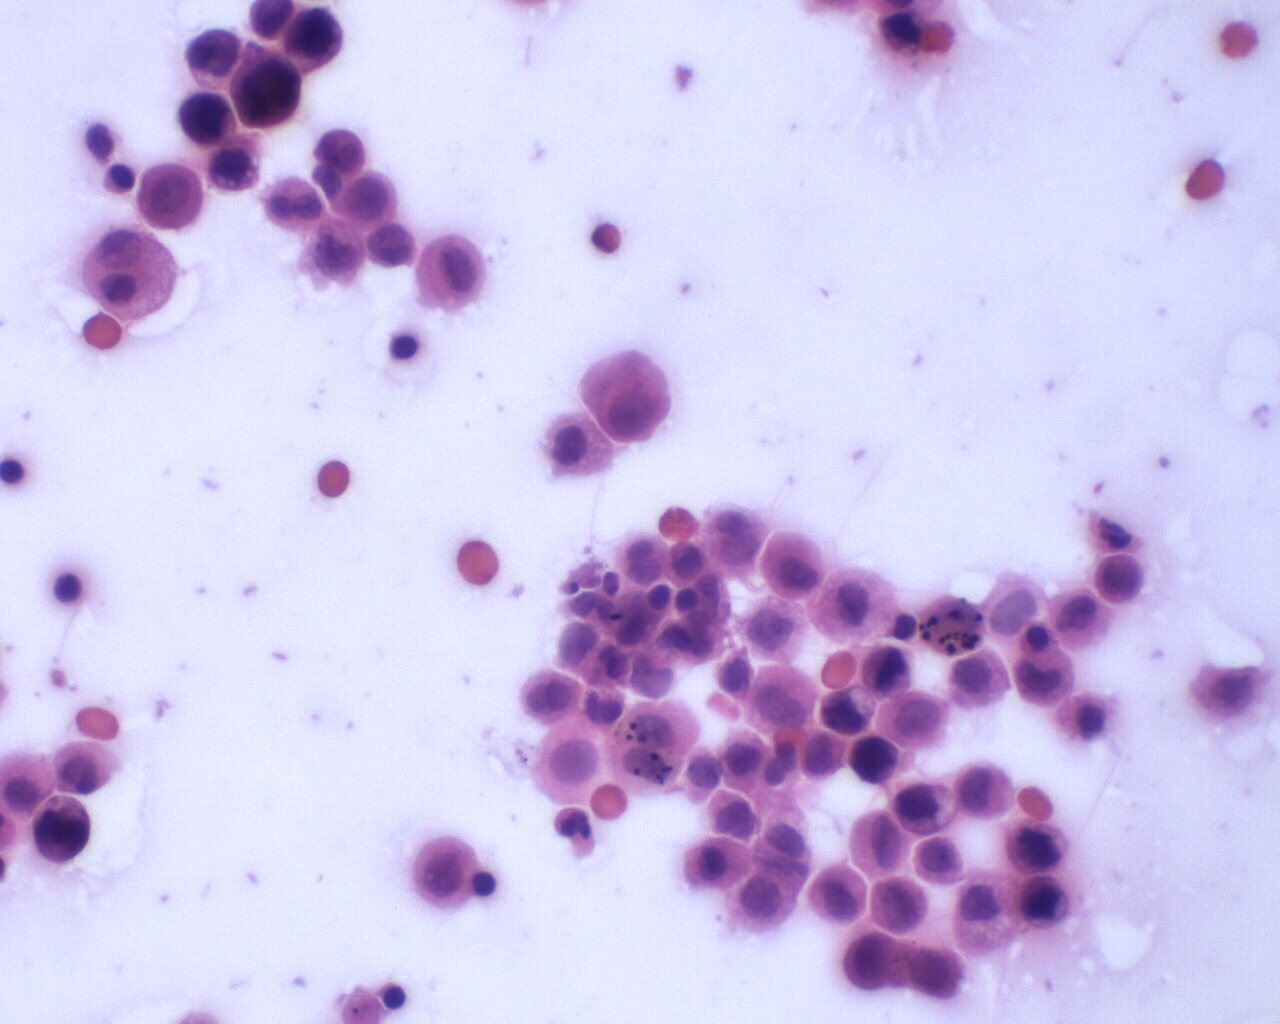ab: (229, 47, 304, 133), (29, 786, 95, 870), (946, 644, 1011, 717), (281, 1, 346, 75), (518, 662, 589, 729), (869, 870, 933, 935), (1003, 815, 1074, 872), (904, 939, 968, 1003), (895, 773, 958, 837), (844, 927, 905, 992), (177, 89, 239, 146), (910, 833, 972, 888), (846, 731, 903, 791), (1093, 550, 1148, 608), (1019, 872, 1071, 933), (862, 642, 914, 700), (363, 218, 416, 270), (316, 124, 366, 179), (802, 725, 846, 781)
histo: (78, 220, 184, 323)
lymph: (53, 571, 87, 605), (388, 331, 421, 363)
meso: (409, 230, 493, 316), (808, 562, 899, 642), (540, 408, 616, 482), (409, 834, 479, 912), (136, 160, 204, 233), (761, 525, 824, 600), (686, 827, 754, 891)
neutro: (555, 805, 595, 846)
